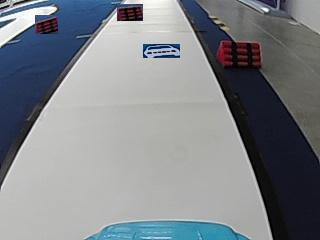bomb: (217, 40, 263, 66)
